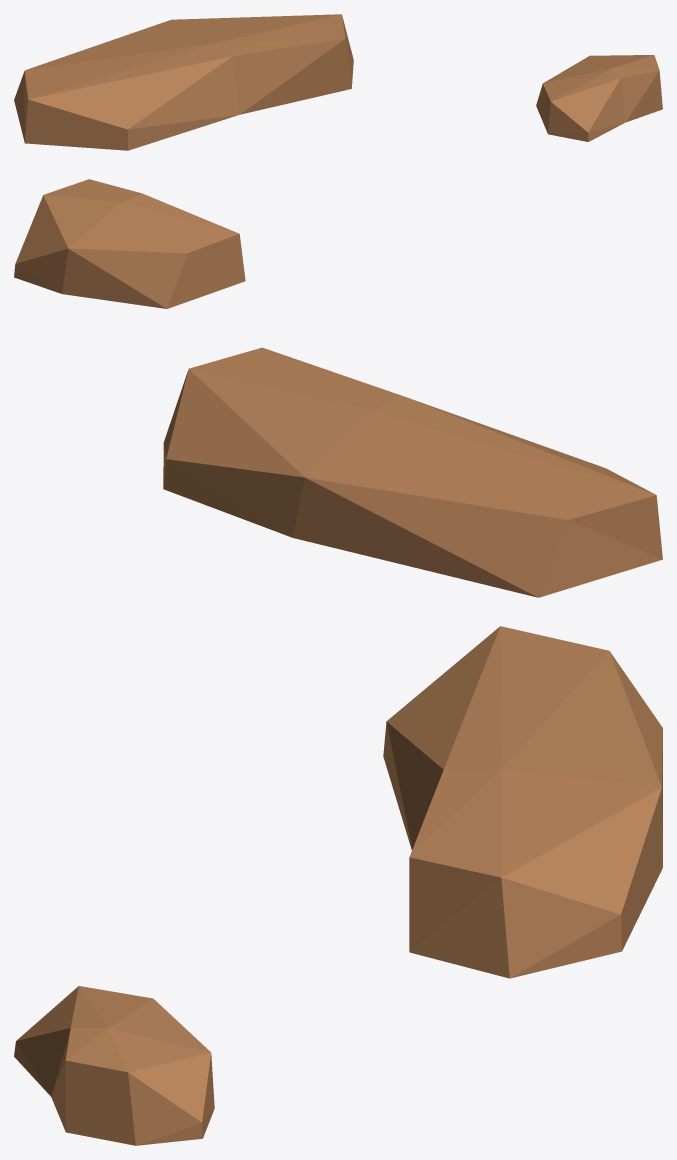
The model's file is Rocks_1.fbx.
3 views of the same model, one above another, from view 1: azimuth 30°, elevation 25°; view 2: azimuth 150°, elevation 25°; view 3: azimuth 270°, elevation 25° (orthographic). The views are drawn at different scales.
Parts seen in each view (by area): view 1: Rocks_1; view 2: Rocks_1; view 3: Rocks_1.
Boxes of the visible parts, x1,y1,x2,y2 form: Rocks_1: (14,14,662,150); Rocks_1: (14,179,662,597); Rocks_1: (14,626,662,1145).
Size of the model in its own units: 232 by 142 by 22.23.
